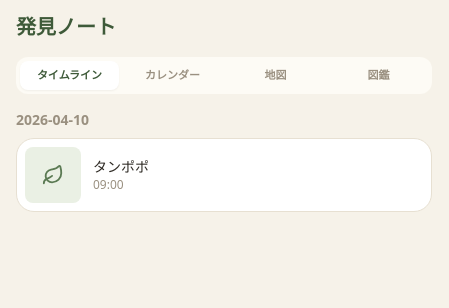
Test: NotebookPage › 図鑑タブ押下で FigureView (図鑑) を表示する
Click the button "図鑑" at x=378, y=75, box [329,61,428,90]
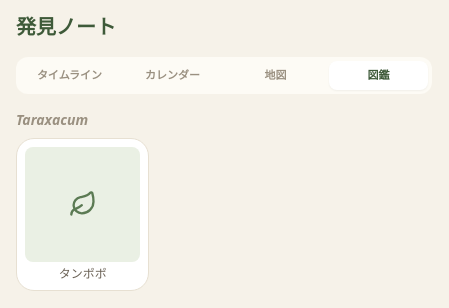
Result: the element named "図鑑" is shown at [16,110,149,291]
